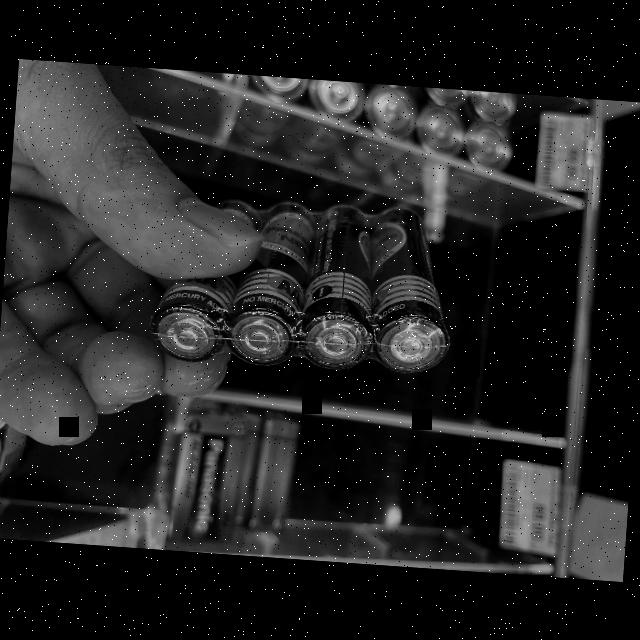battery: (352, 196, 466, 390), (148, 190, 258, 372), (218, 194, 315, 374), (297, 189, 383, 374)
